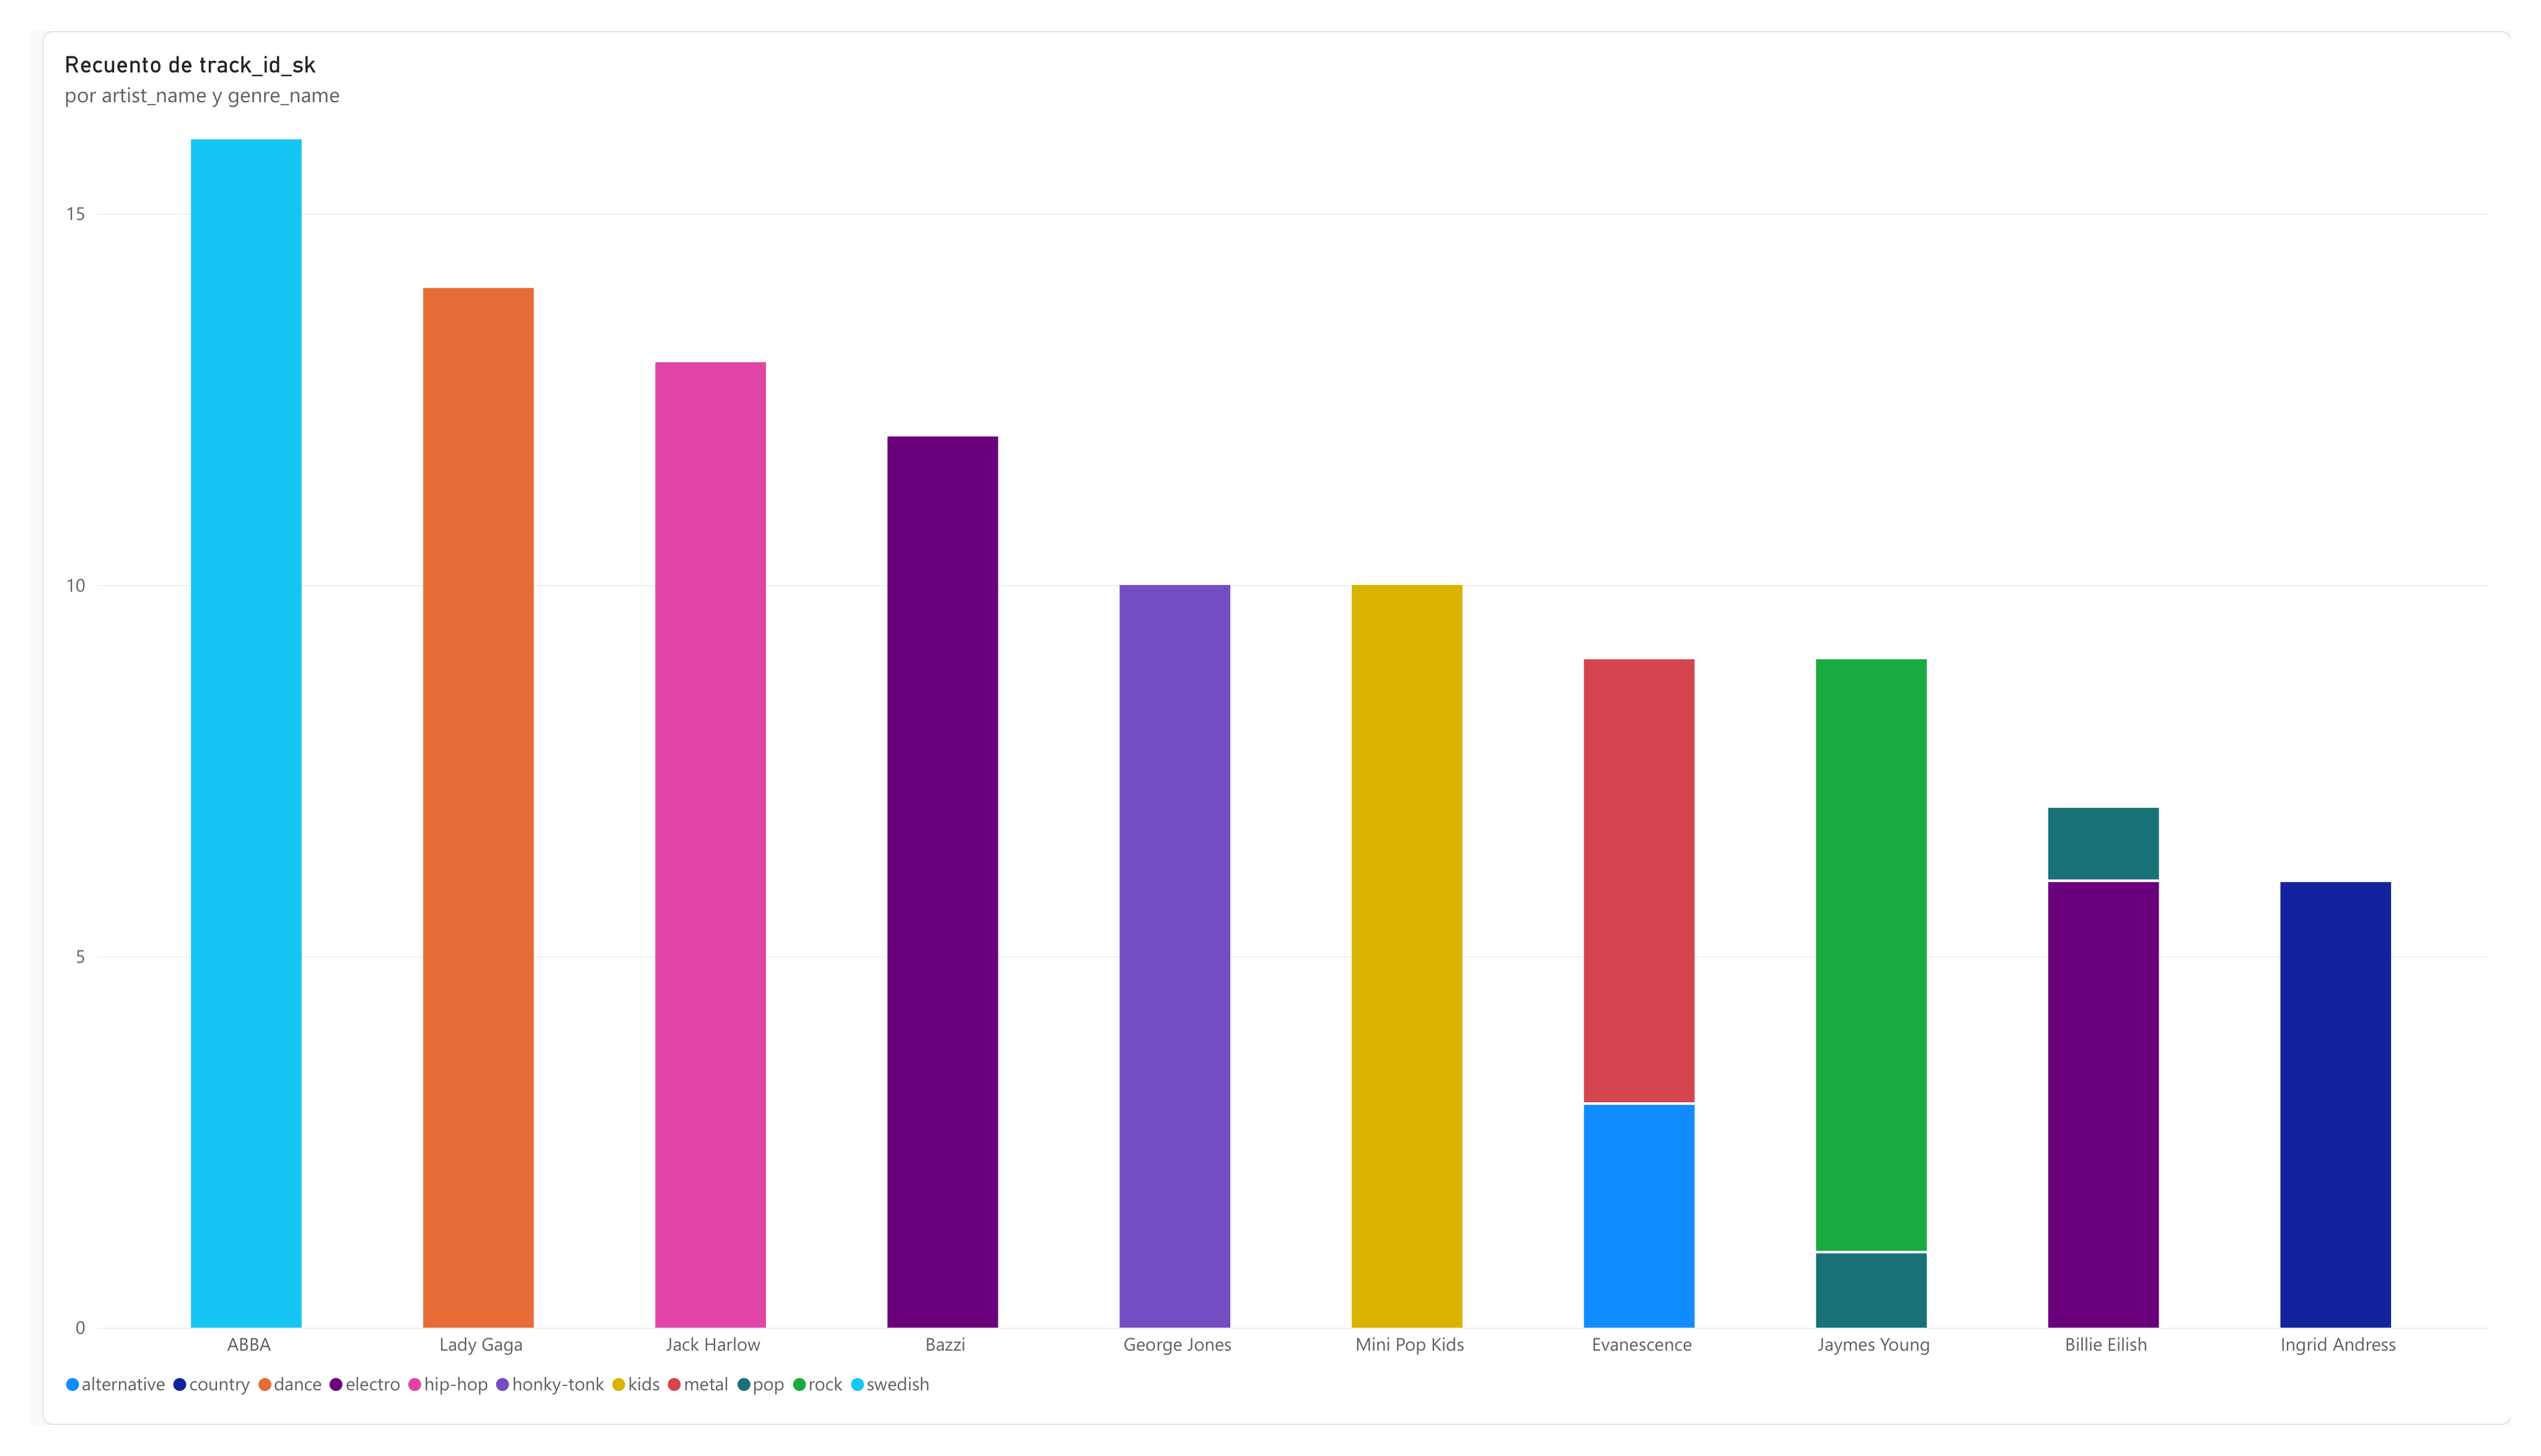

The dashboard page shown, as its layout file describes it:
{"tool":"powerbi","page":{"name":"Página 3","canvas":[1920,1080],"ordinal":2},"visuals":[{"type":"columnChart","fields":{"Category":["music_dw dim_artist.artist_name"],"Series":["music_dw dim_genre.genre_name"],"Y":["Count(music_dw fact_tracks.track_id_sk)"]},"box":[9.3,0,1911.3,1079.7],"z":0}]}

Visuals, with their boxes on the page's 1920x1080 design canvas (x1, y1, x2, y2). These are canvas units, not pixel positions in the 2541x1456 screenshot, which may show the page scaled, cropped or inside an application window:
columnChart - music_dw dim_artist.artist_name x music_dw dim_genre.genre_name: Rect(9, 0, 1921, 1080)
